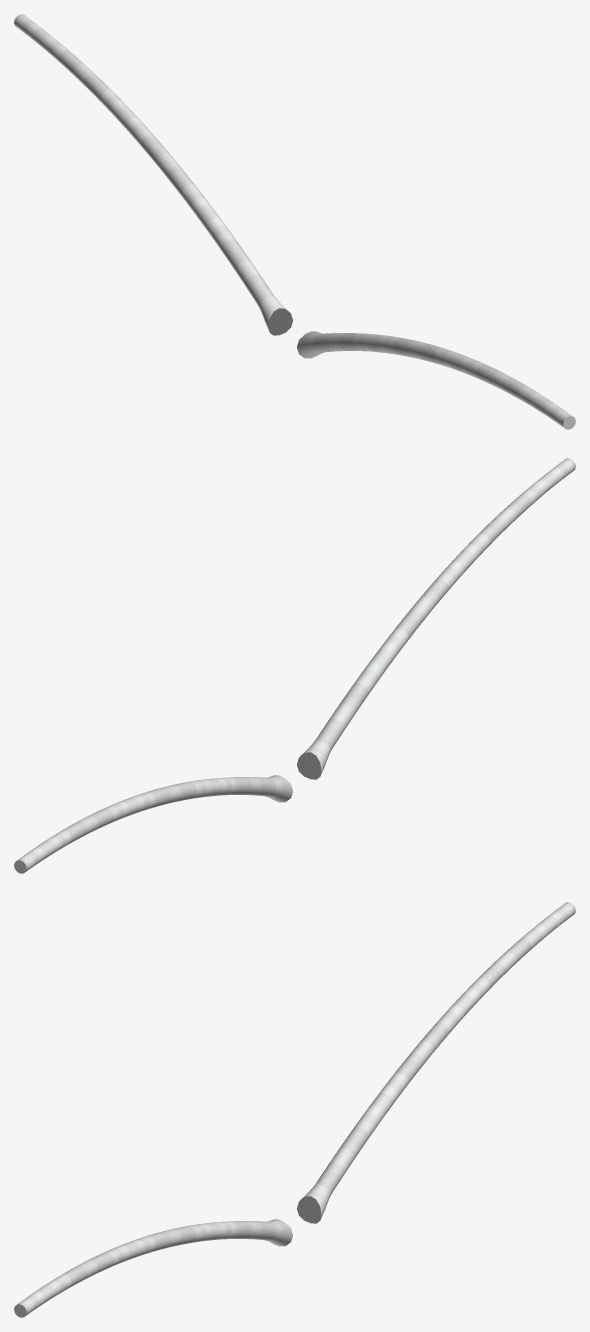
The model's file is luminairearm_caltrans15ftdouble_inv.obj.
3 views of the same model, one above another, from view 1: azimuth 30°, elevation 25°; view 2: azimuth 150°, elevation 25°; view 3: azimuth 330°, elevation 25° (orthographic).
Parts seen in each view (by area): view 1: luminairearm_caltrans15ftdouble_inv; view 2: luminairearm_caltrans15ftdouble_inv; view 3: luminairearm_caltrans15ftdouble_inv.
Part boxes in pixels (bbox=[...]): luminairearm_caltrans15ftdouble_inv: bbox=[14, 14, 575, 429]; luminairearm_caltrans15ftdouble_inv: bbox=[14, 458, 575, 873]; luminairearm_caltrans15ftdouble_inv: bbox=[14, 902, 575, 1317].
Size of the model in its own units: 0.026 by 0.1323 by 1.
